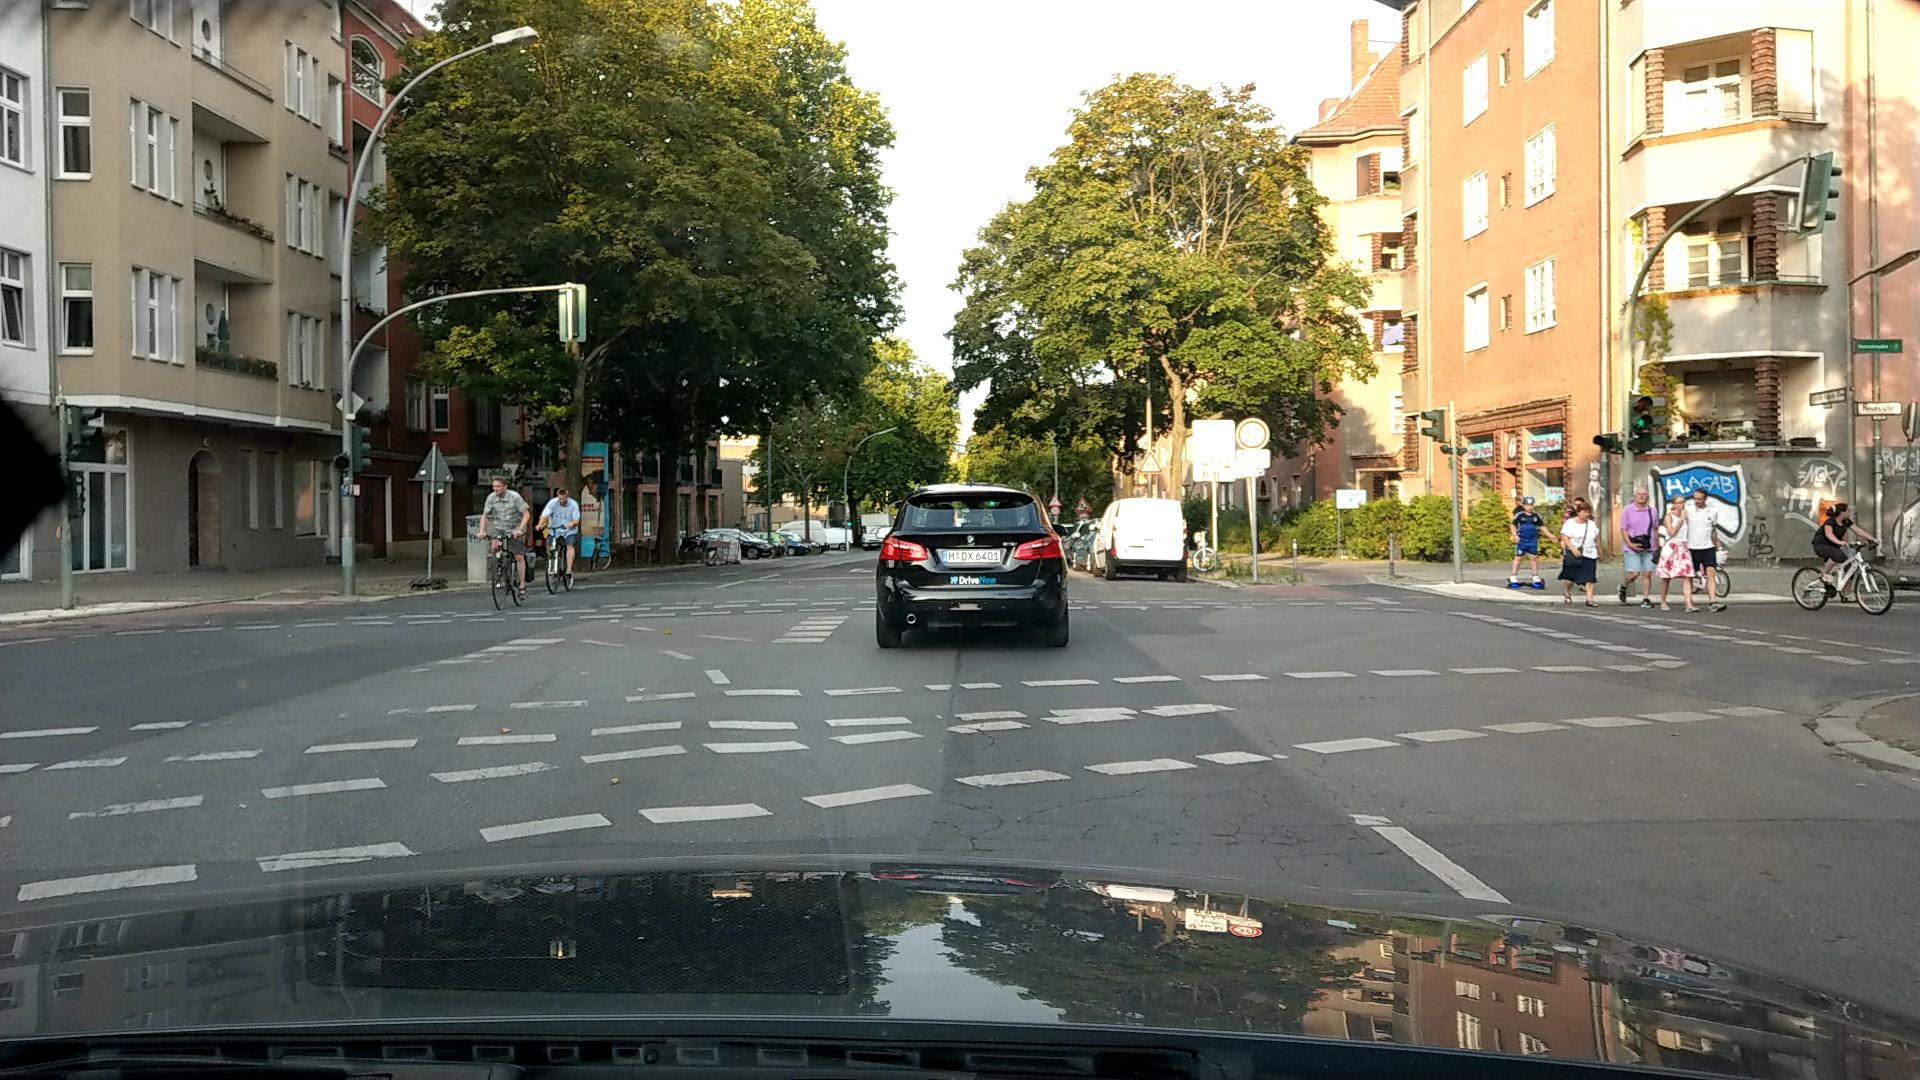Human face: (491, 477, 507, 497), (1692, 489, 1707, 509), (1633, 487, 1647, 505), (1673, 496, 1686, 512), (1577, 507, 1590, 521), (558, 491, 568, 506), (1524, 500, 1534, 512)
Vehicle registration plate: (940, 549, 1001, 564)
